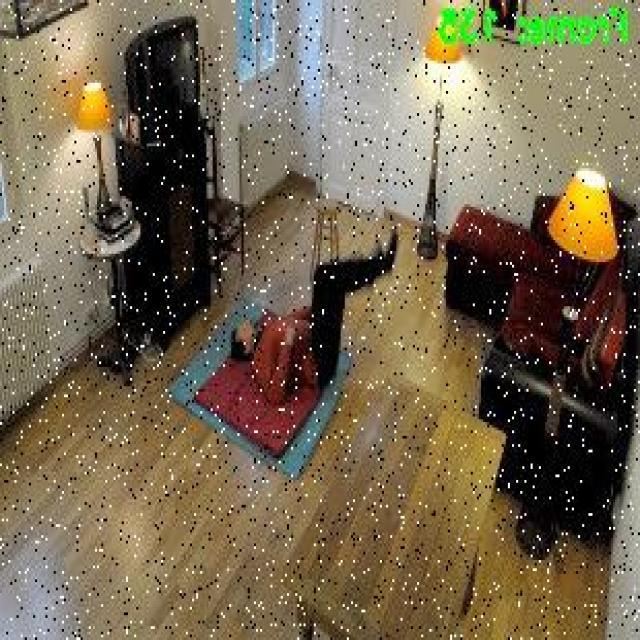fall: (229, 218, 401, 400)
